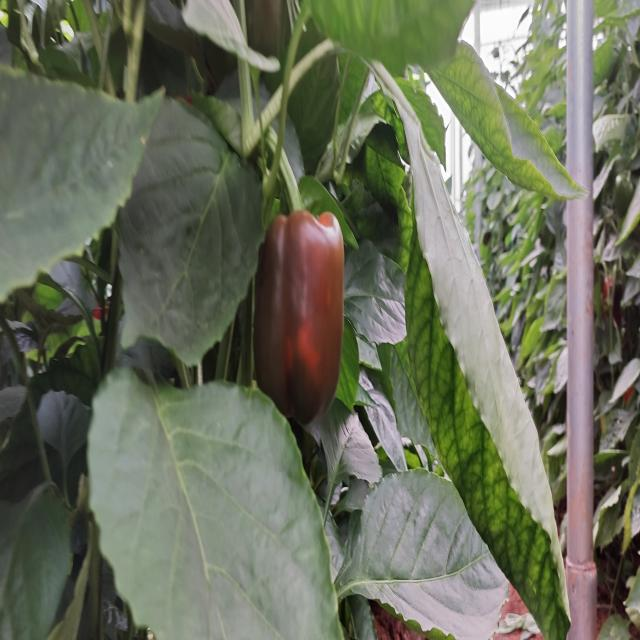BrownishRed--Can-be-Harvested: (258, 206, 344, 431)
